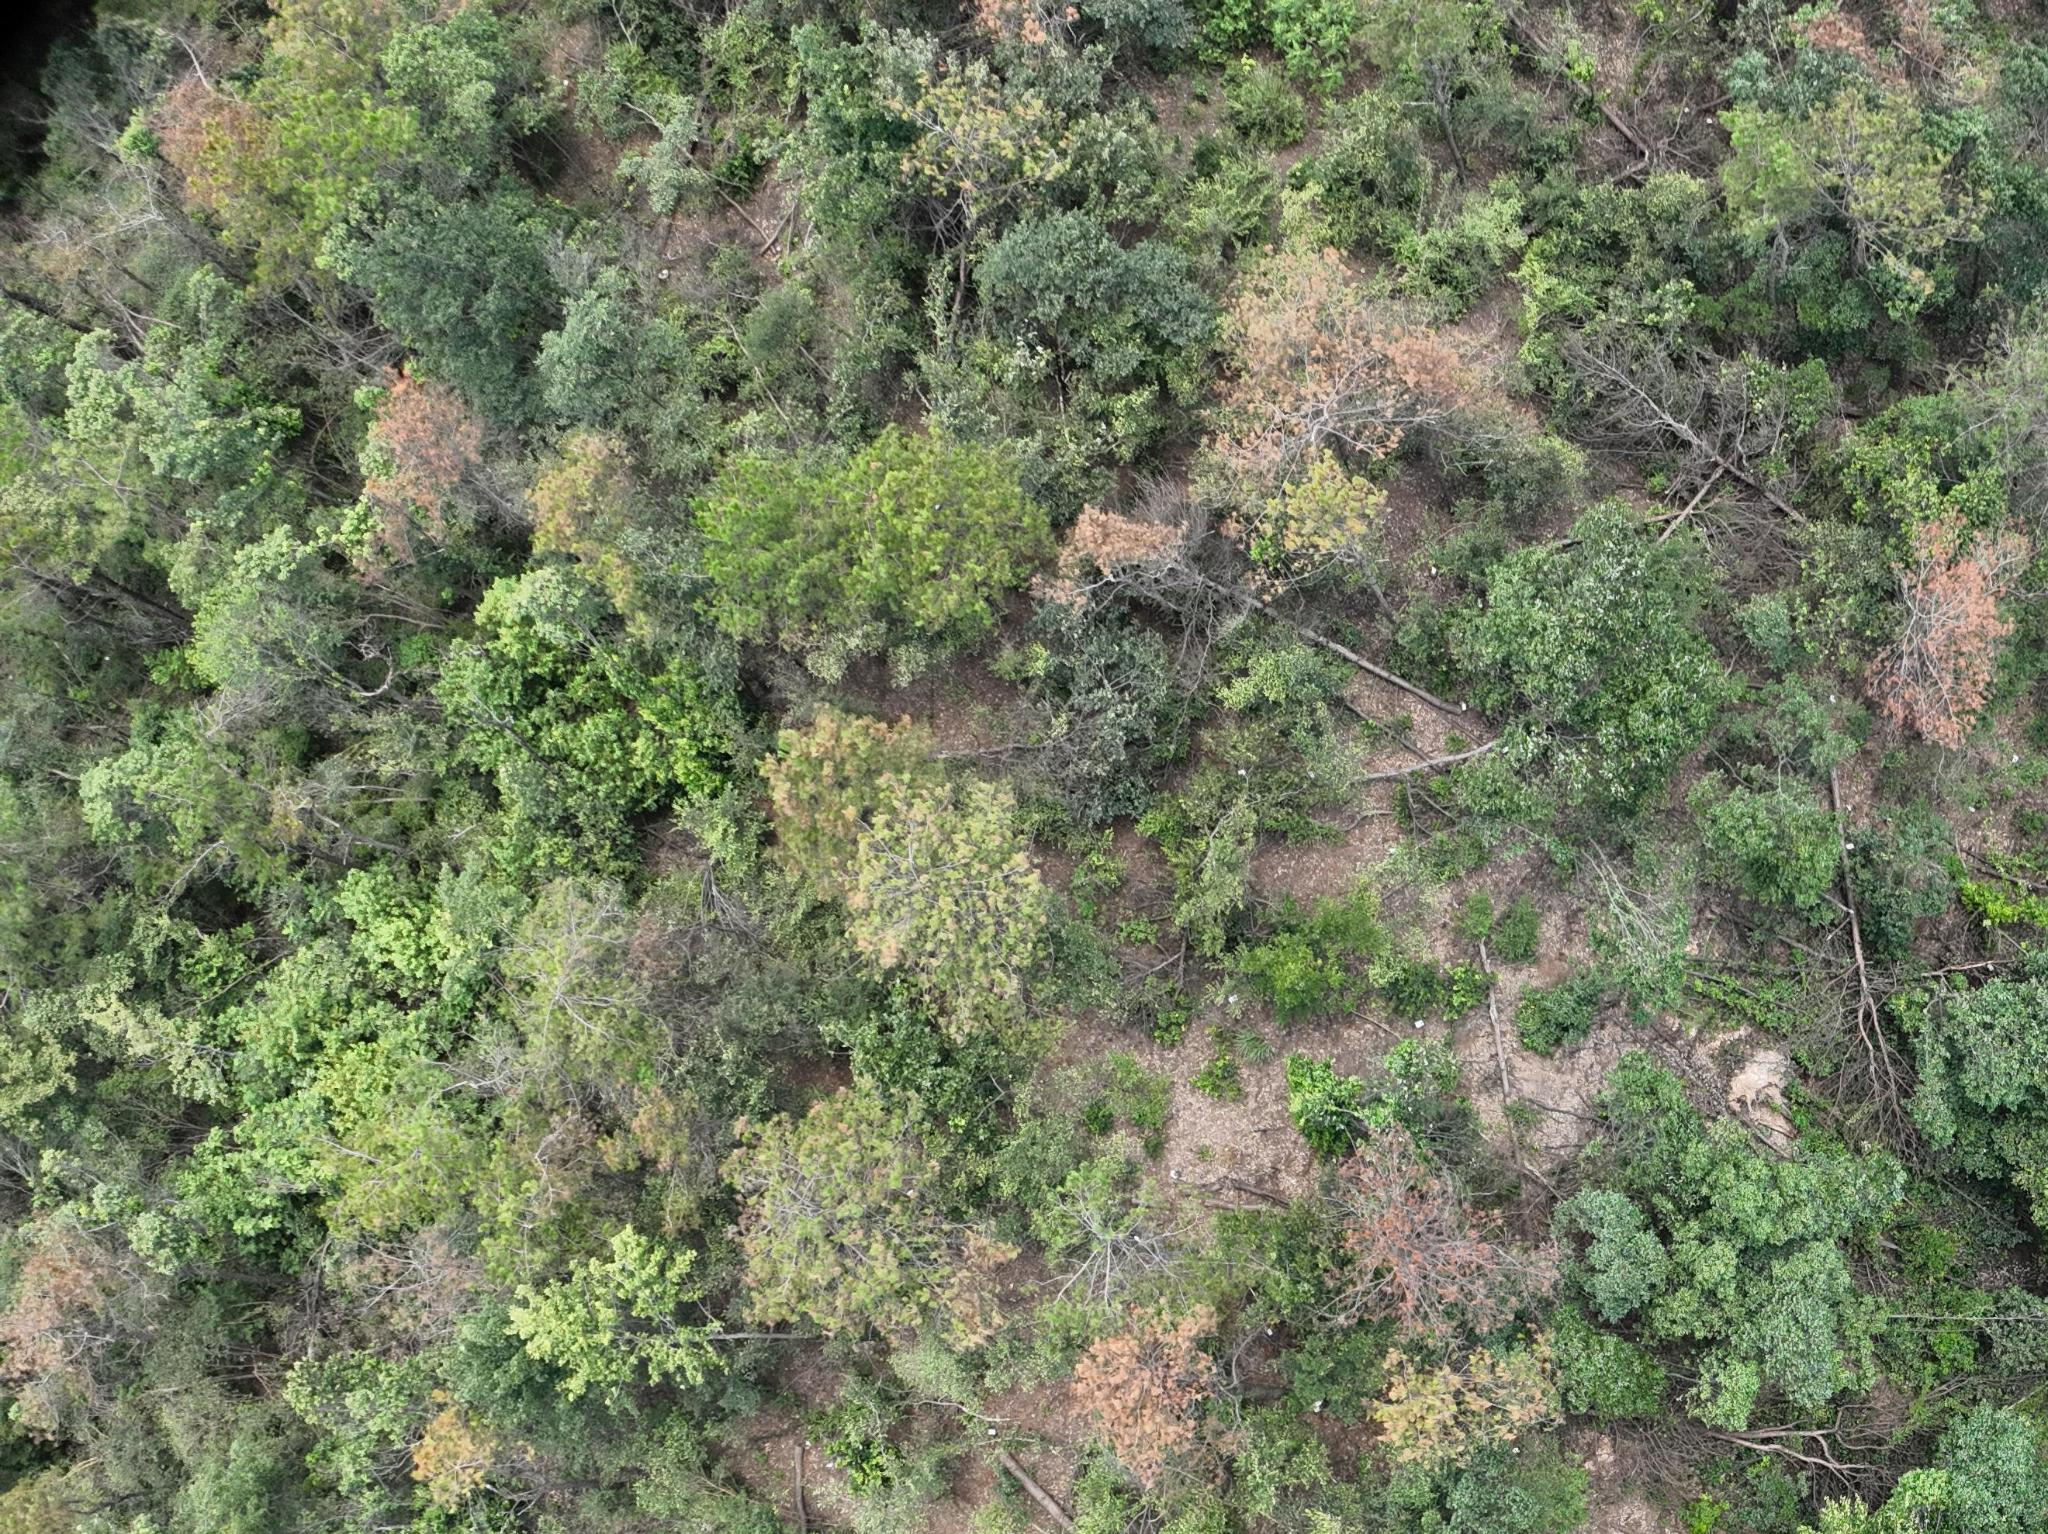heavy: (1200, 237, 1461, 466), (1321, 1133, 1534, 1326), (1871, 508, 2017, 740), (1072, 1299, 1220, 1486), (6, 1246, 145, 1432), (366, 380, 474, 546), (1031, 506, 1183, 614)
light: (1358, 1345, 1566, 1466), (411, 1394, 490, 1513)
